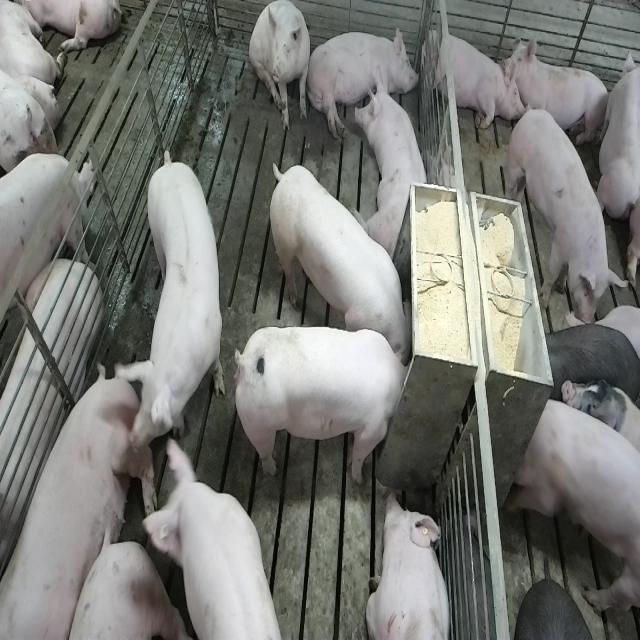Feeding: (265, 160, 412, 362), (240, 325, 418, 485)
Lateral_lying: (3, 361, 165, 636), (306, 24, 419, 140)
Sitting: (249, 2, 312, 134)
Standing: (114, 146, 223, 449), (514, 392, 638, 634), (137, 440, 285, 640), (507, 103, 624, 327), (0, 156, 94, 346), (539, 323, 639, 412)
Sternal_lying: (356, 73, 433, 259), (366, 491, 453, 640), (504, 38, 612, 152), (424, 24, 516, 134)
